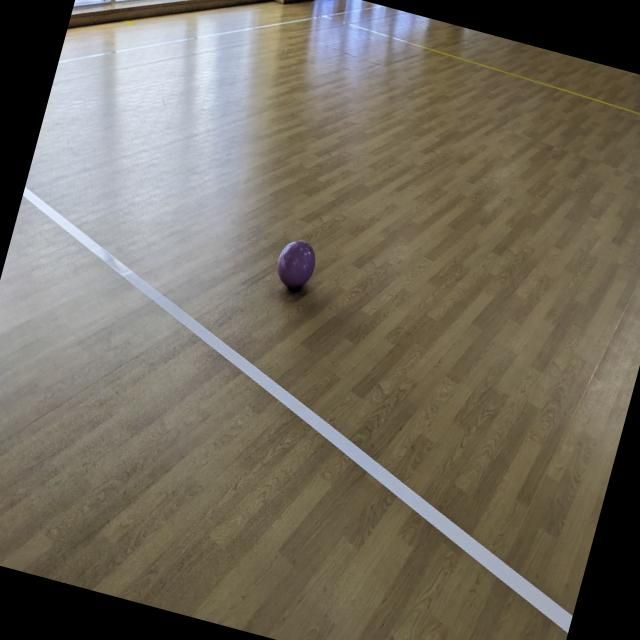purple_ball: (270, 235, 320, 293)
